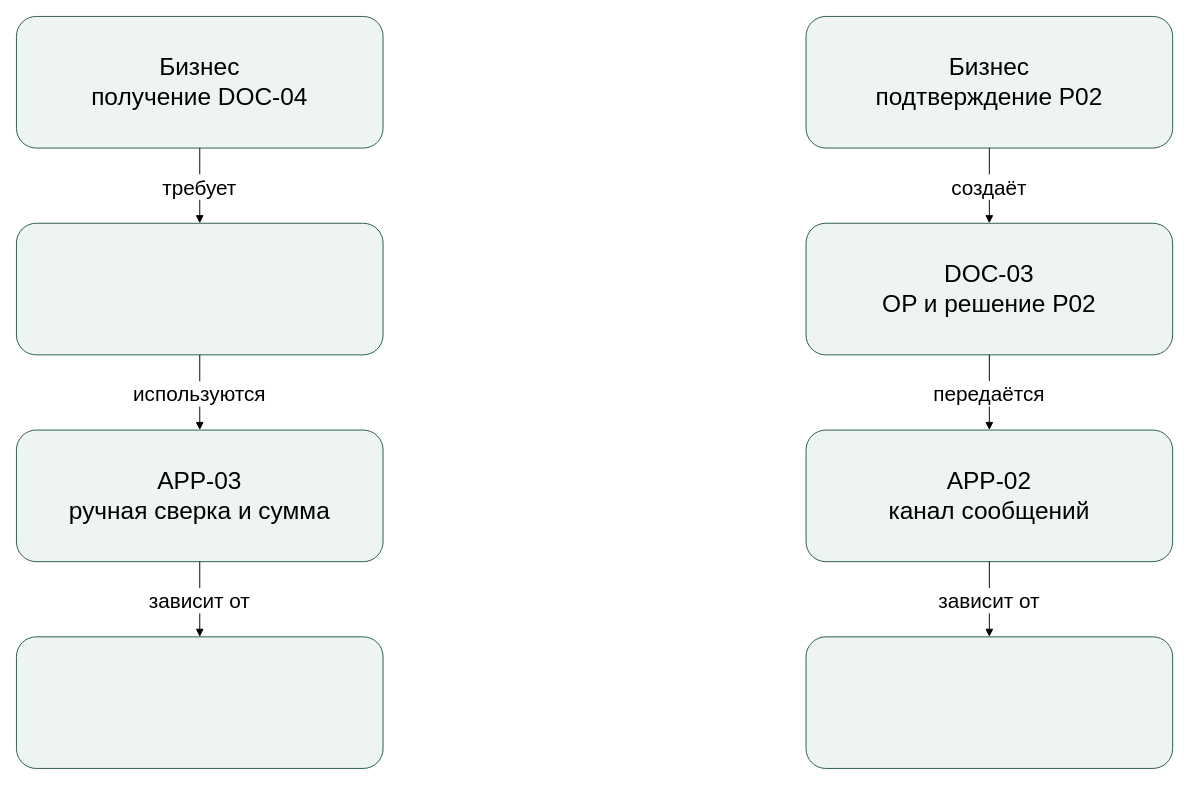
This 1189x785 diagram has some shape labels left out. Here are the shapes that lost their labels. From the top down, the centre of each, then its label:
At pixel 199 288: "Данные OP и статус".
At pixel 199 702: "T02 / T03 рабочее место и файлы".
At pixel 989 702: "Устройства Р02/Р03 и канал связи".
